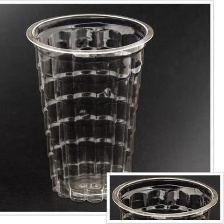glass: (21, 7, 160, 207), (110, 172, 219, 224)
